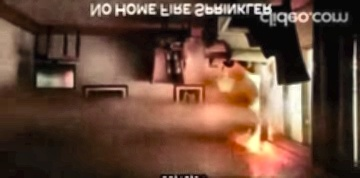fire: (229, 72, 292, 178)
